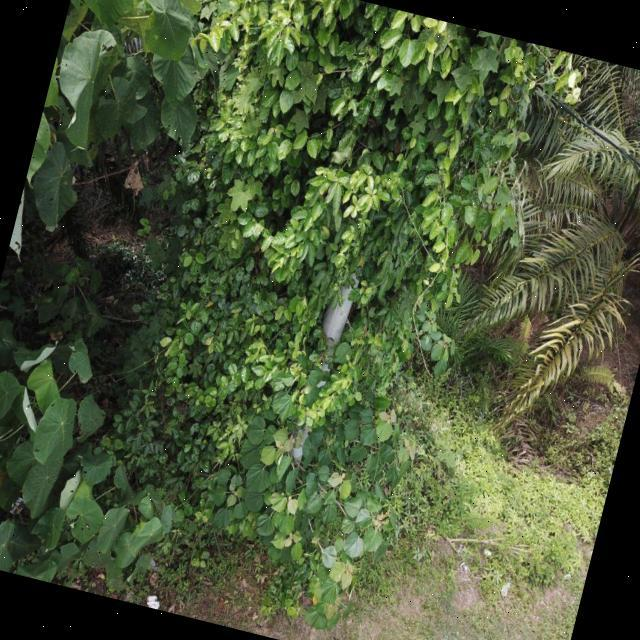critical vegetation: (246, 41, 435, 526)
